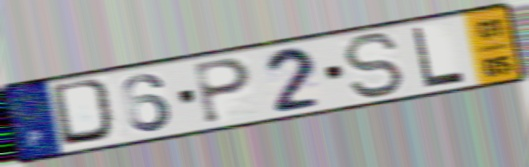2: (264, 43, 328, 119)
6: (121, 71, 175, 134)
D: (47, 76, 122, 149)
L: (410, 24, 468, 90)
P: (191, 56, 254, 126)
S: (339, 30, 408, 101)
